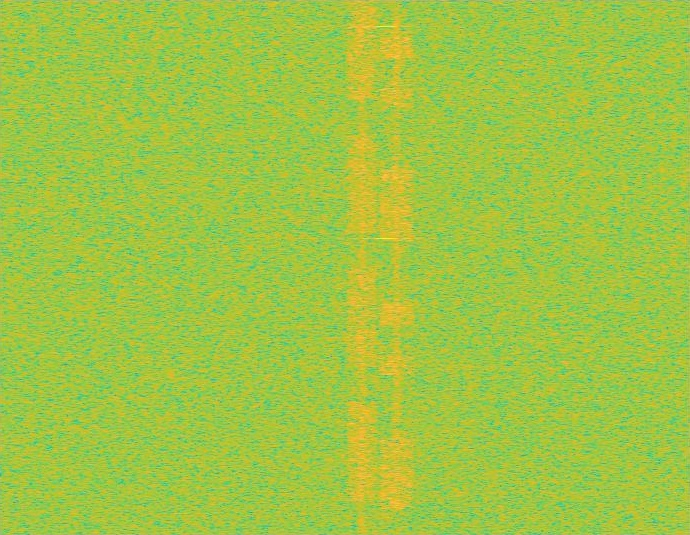5G: (345, 0, 380, 534)
DSSS: (358, 0, 366, 534), (393, 0, 401, 534)
LTE: (380, 0, 414, 534)
Radar: (379, 0, 393, 534)
